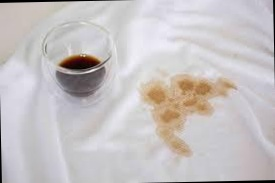coffee: (149, 82, 209, 114), (158, 116, 179, 139), (211, 82, 231, 95), (172, 142, 191, 154)
